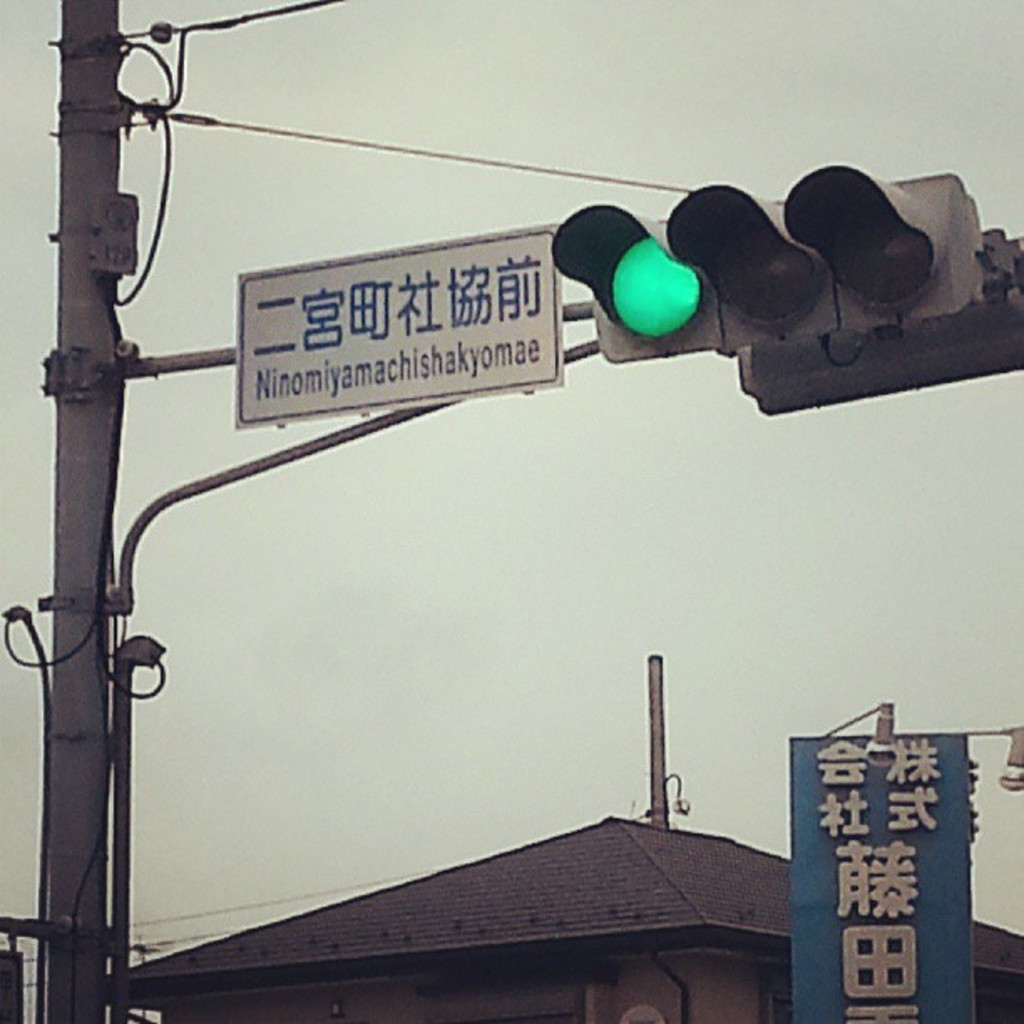green_light: (568, 190, 960, 338)
